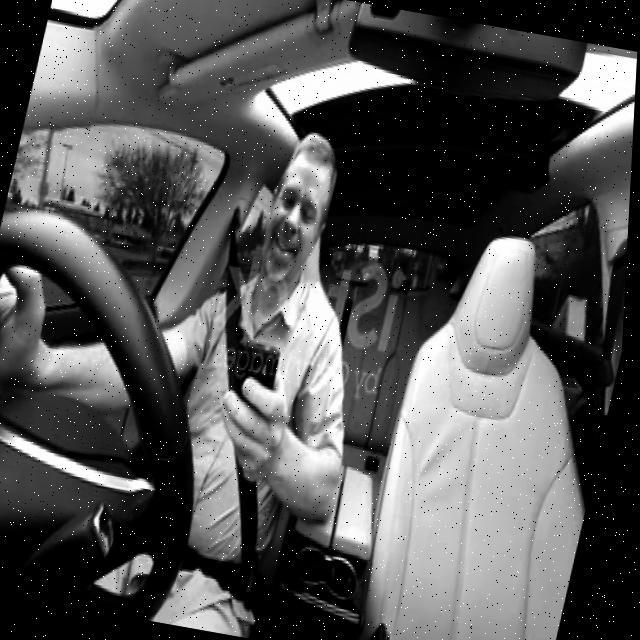PhoneCall: (223, 338, 287, 434)
